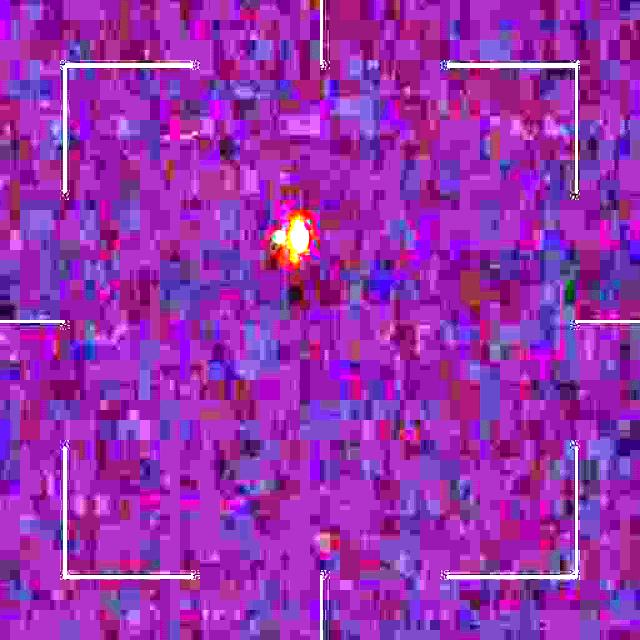bird: (274, 219, 310, 265)
